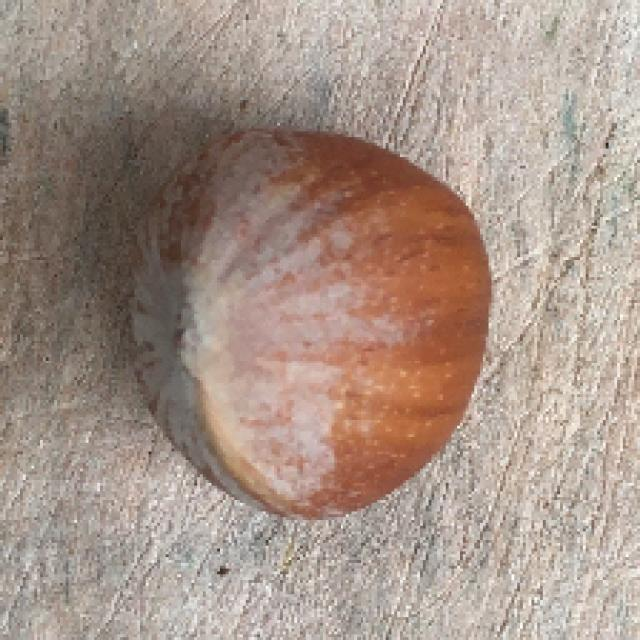qualityHazelnut: (130, 126, 497, 526)
